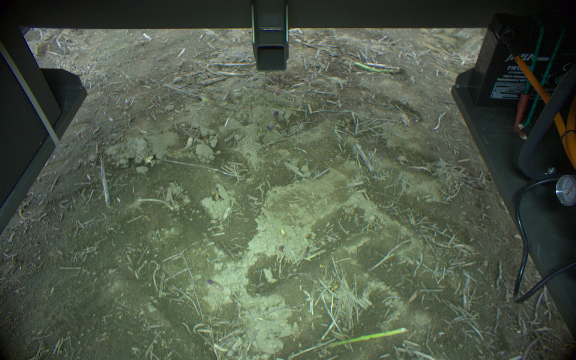aspa: (320, 326, 409, 349), (351, 59, 403, 77)
